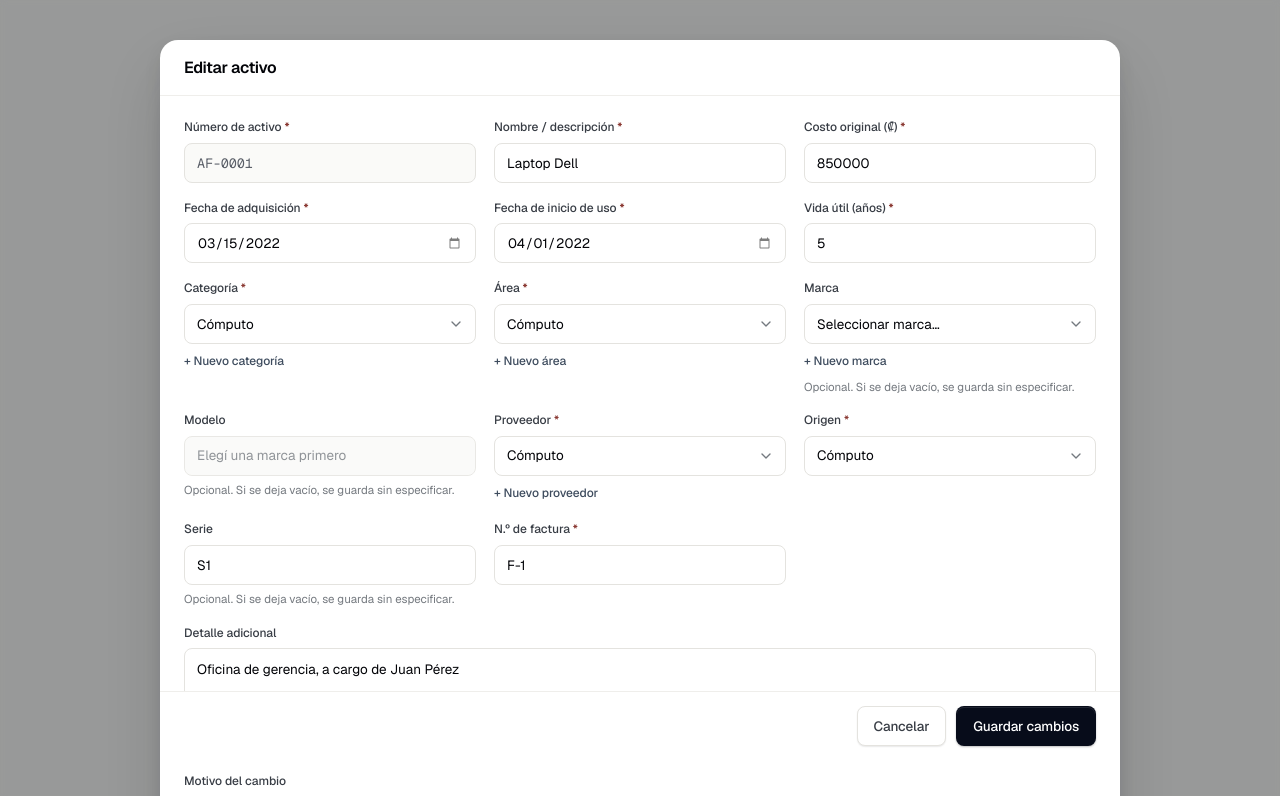
Scenario: EditarActivoModal › bloquea el guardado y marca error cuando se vacía un campo obligatorio
Step 1. Clear the field showing "Laptop Dell" → (640, 163), box x1=494 y1=143 x2=786 y2=183
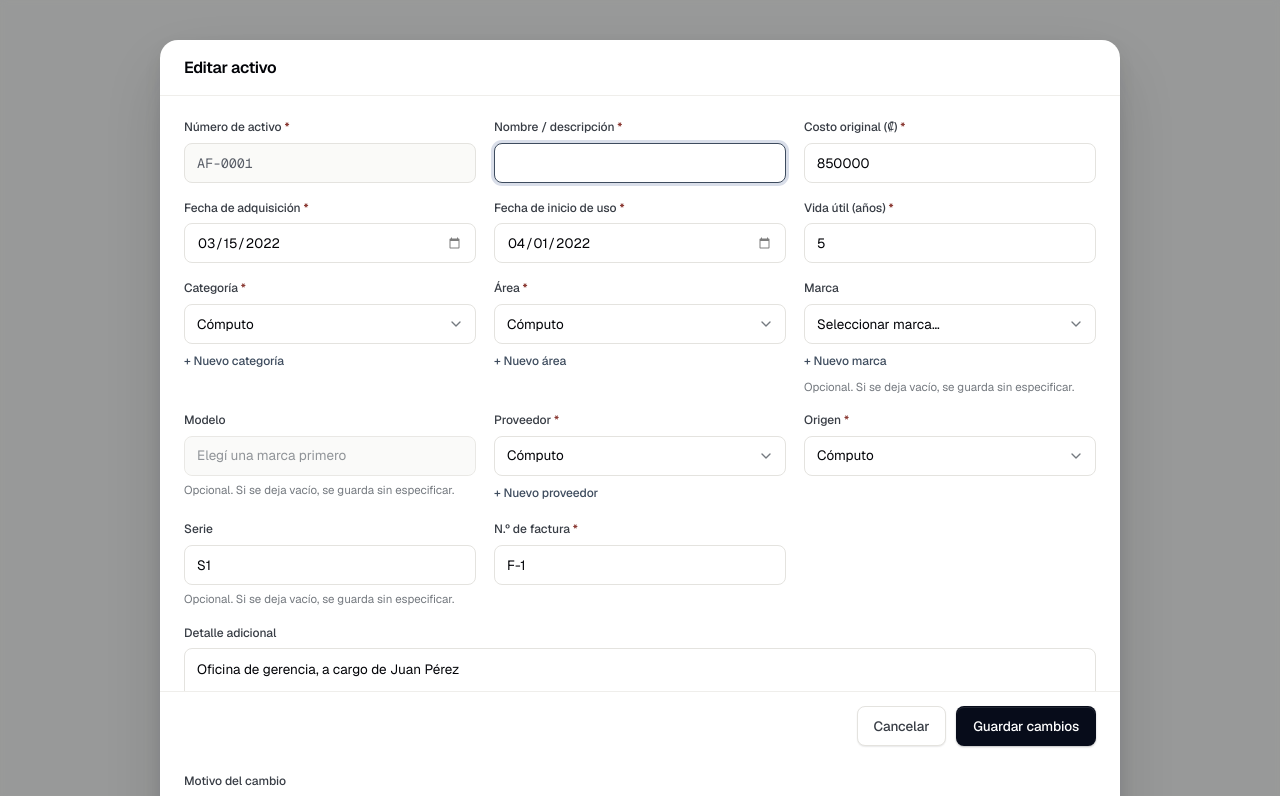
Step 2. Click the button "Guardar cambios" → click(1026, 726), box x1=956 y1=706 x2=1096 y2=746
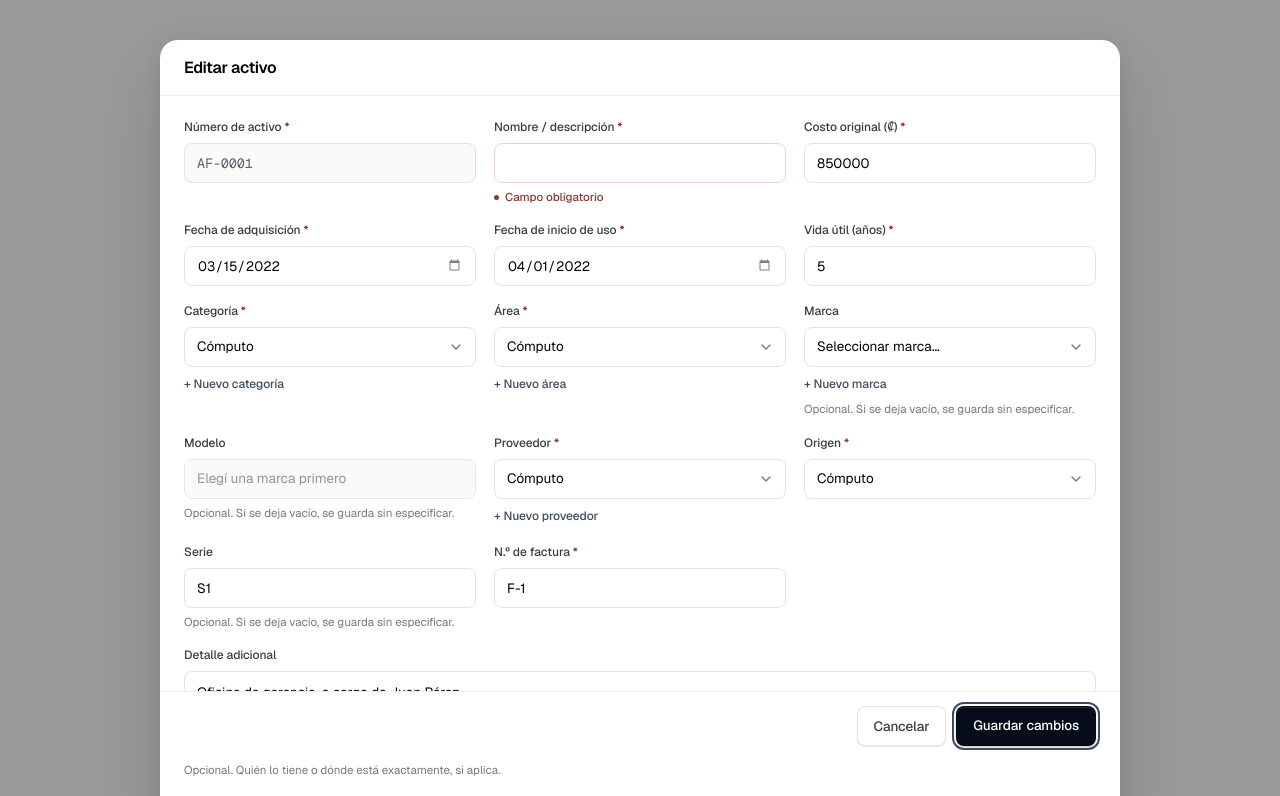
Expected: the text "Campo obligatorio" is shown, x1=505 y1=189 x2=604 y2=204
